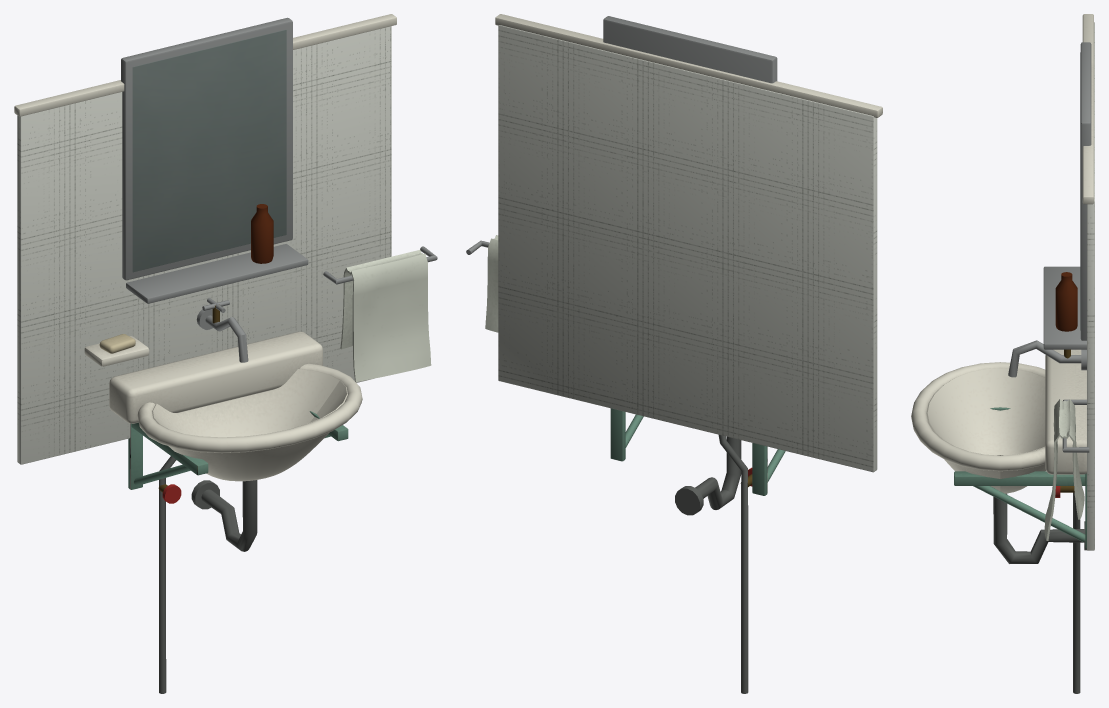
The model's file is CTCC_LOC03_WardSink.fbx.
3 views of the same model, side by side, from view 1: azimuth 30°, elevation 25°; view 2: azimuth 150°, elevation 25°; view 3: azimuth 270°, elevation 25° (orthographic).
Parts seen in each view (by area): view 1: CTCC_LOC03_WardSink_LOD0; view 2: CTCC_LOC03_WardSink_LOD0; view 3: CTCC_LOC03_WardSink_LOD0.
Part boxes in pixels (x1,y1,x2,y2): CTCC_LOC03_WardSink_LOD0: (14, 14, 437, 693); CTCC_LOC03_WardSink_LOD0: (466, 14, 882, 693); CTCC_LOC03_WardSink_LOD0: (911, 14, 1094, 693).
Size of what is drawn, in the model's own units: 1.17 by 1.74 by 0.457.
